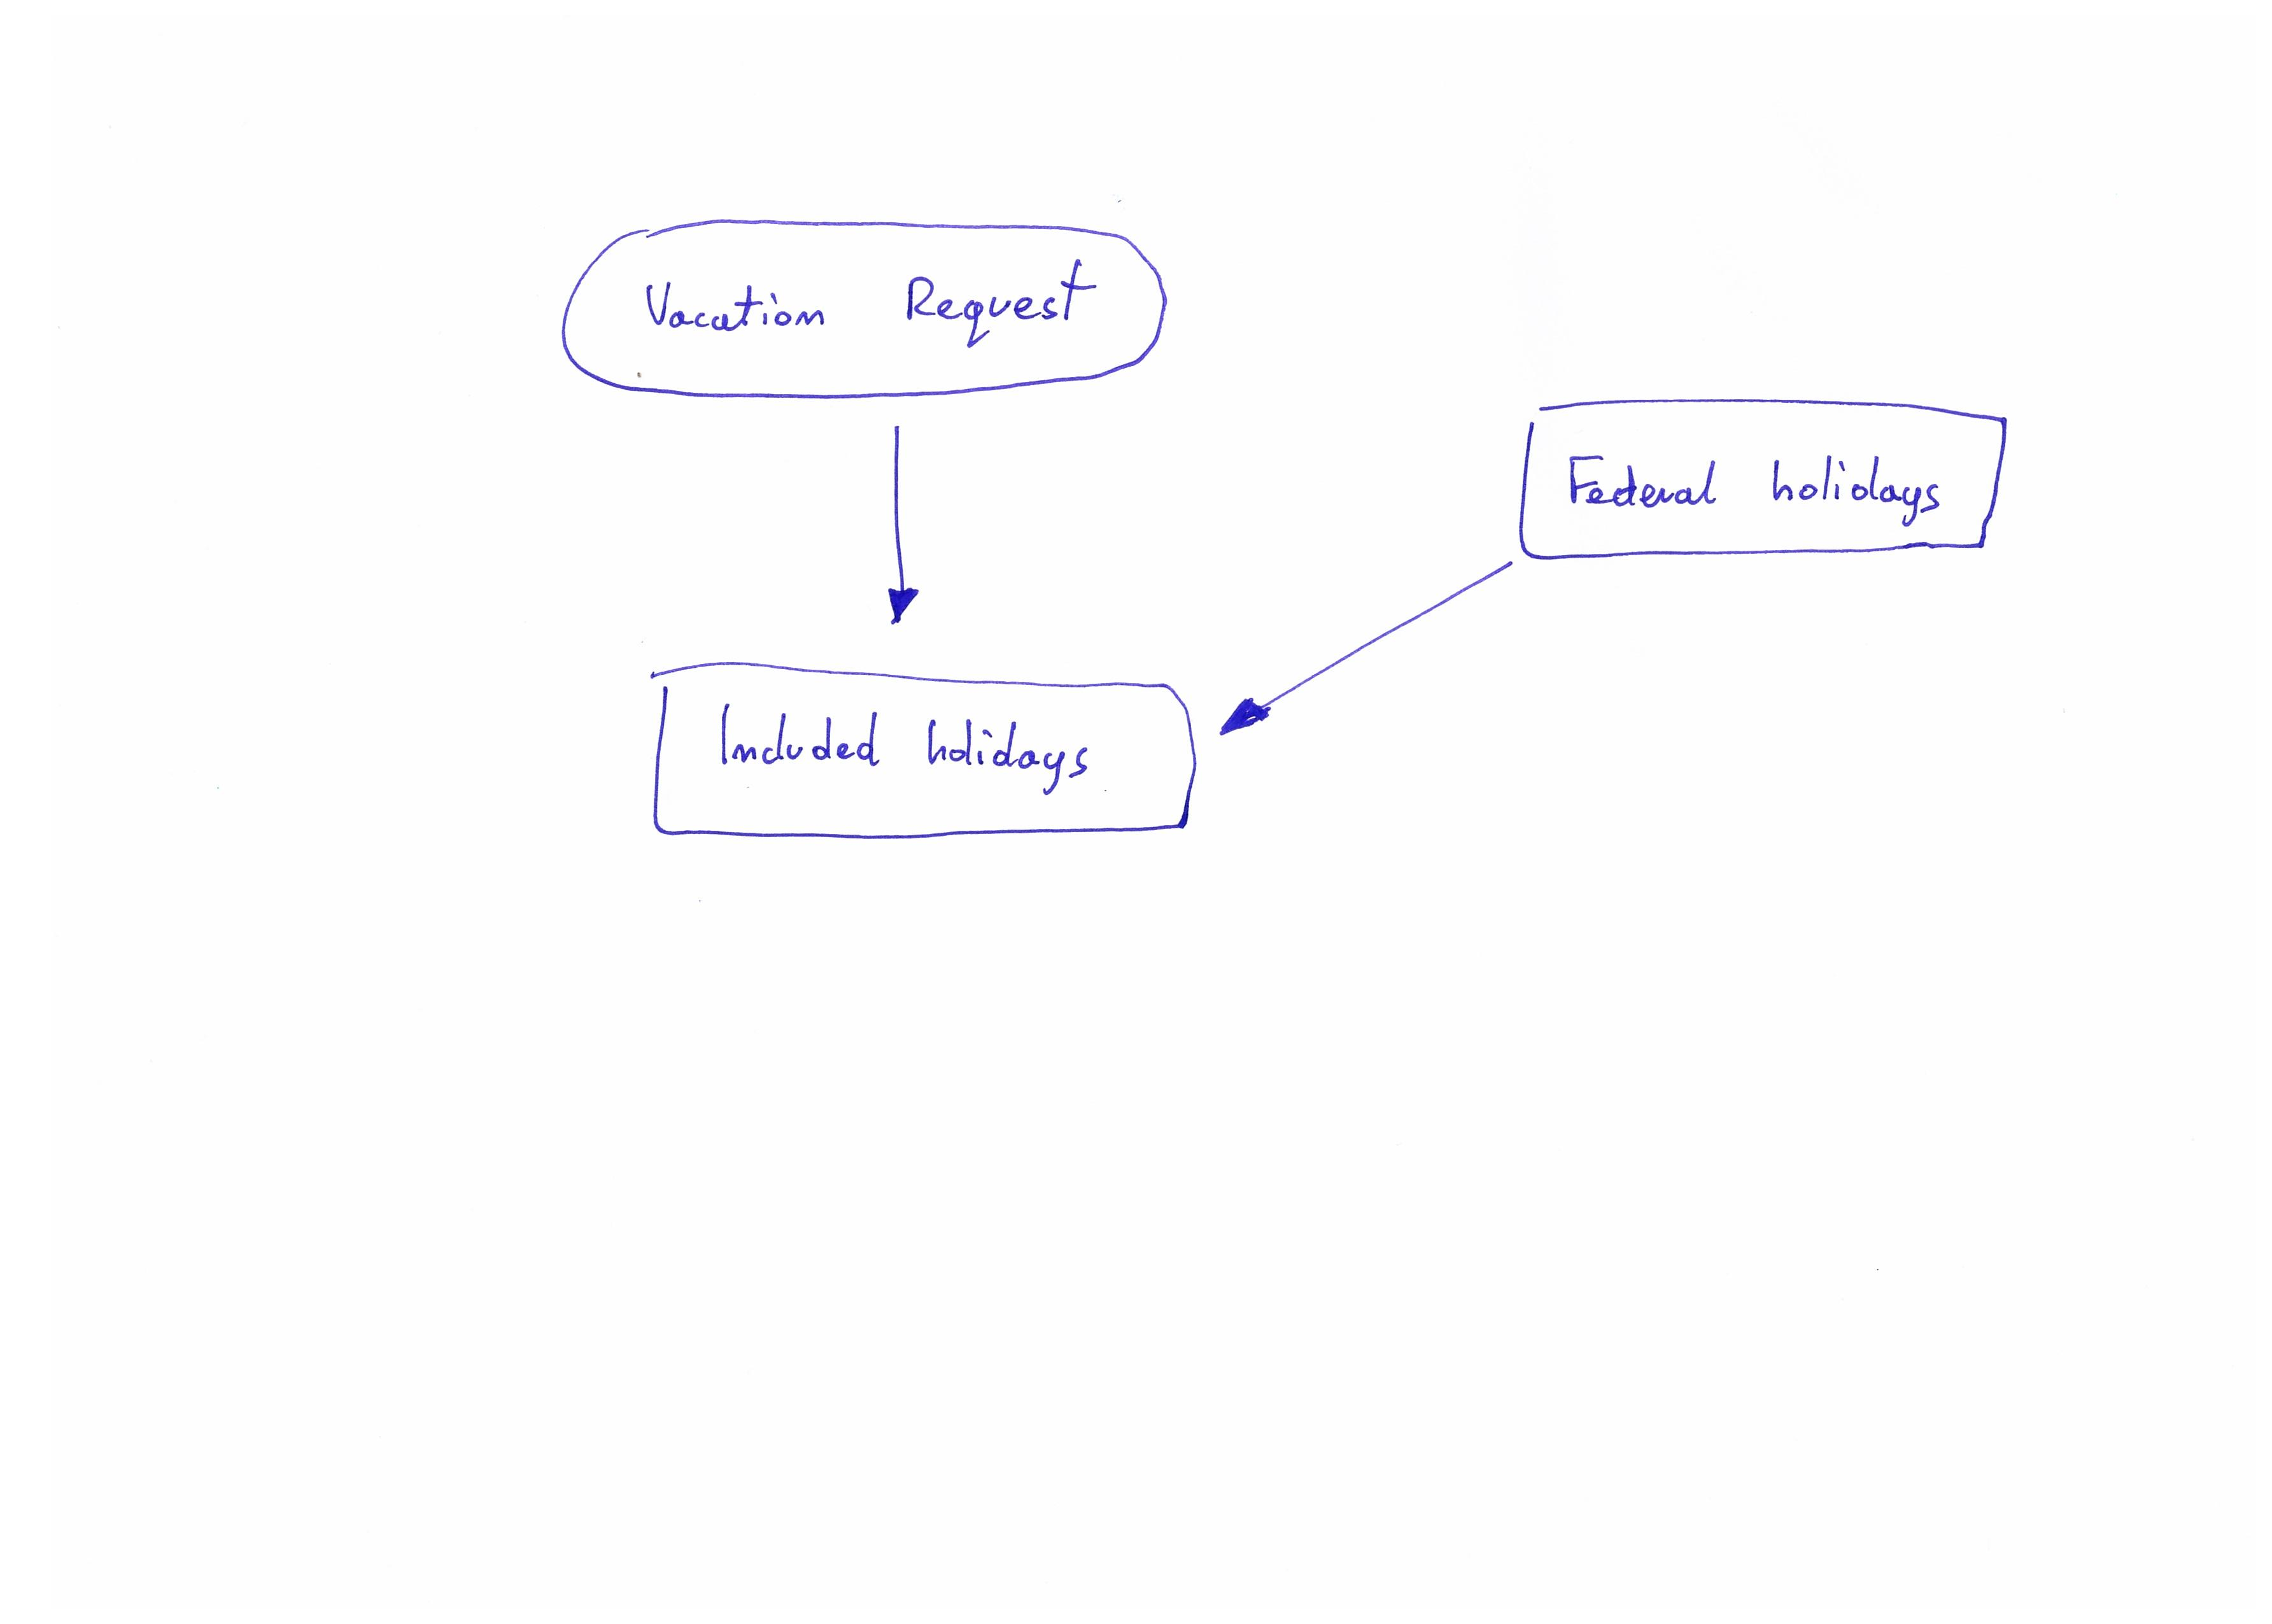arrow_information_requirement: (1211, 557, 1525, 747), (865, 418, 940, 640)
node_decision: (641, 659, 1204, 849), (1516, 387, 2014, 569)
node_input_data: (543, 197, 1195, 410)
text: (629, 257, 1114, 353), (703, 694, 1114, 807), (1555, 432, 1957, 533)
